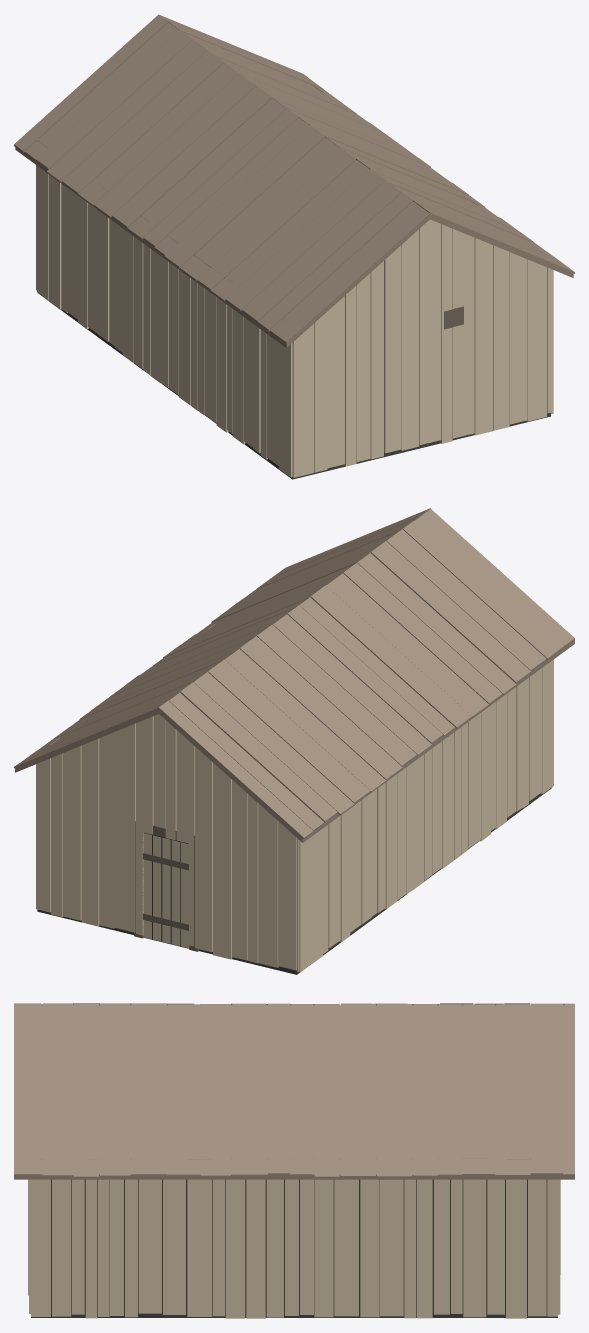
Rendered from recon_1835_south_w4_032__inferred_1835.glb.
The picture shows the model from 3 angles, top to bottom: view 1: azimuth 30°, elevation 25°; view 2: azimuth 150°, elevation 25°; view 3: azimuth 270°, elevation 25°; orthographic projection. The views are drawn at different scales.
Visible parts, largest first — view 1: recon_1835_south_w4_032__inferred_1835; view 2: recon_1835_south_w4_032__inferred_1835; view 3: recon_1835_south_w4_032__inferred_1835.
Boxes of the visible parts, x1,y1,x2,y2 form: recon_1835_south_w4_032__inferred_1835: (14,14,574,479); recon_1835_south_w4_032__inferred_1835: (14,508,574,974); recon_1835_south_w4_032__inferred_1835: (14,1003,574,1318).
Size of the model in its own units: 5.44 by 4.28 by 8.73.
